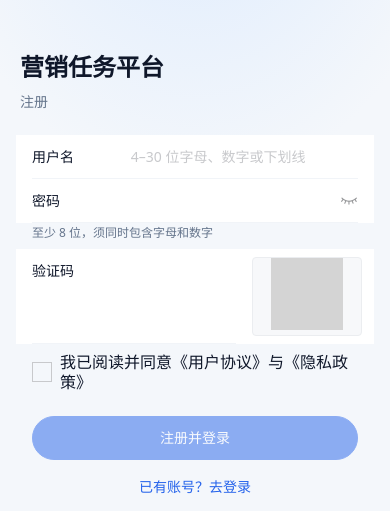
Scenario: RegisterPage › keeps submit disabled until agreement is checked
Expected: the button with test id "register-submit" is disabled, x1=32 y1=416 x2=358 y2=460
Click the checkbox with test id "register-agree" at {"x": 195, "y": 372}, box x1=32 y1=352 x2=358 y2=392
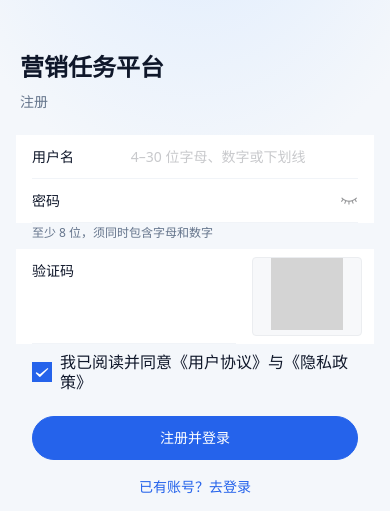
Expected: the button with test id "register-submit" is enabled, x1=32 y1=416 x2=358 y2=460
